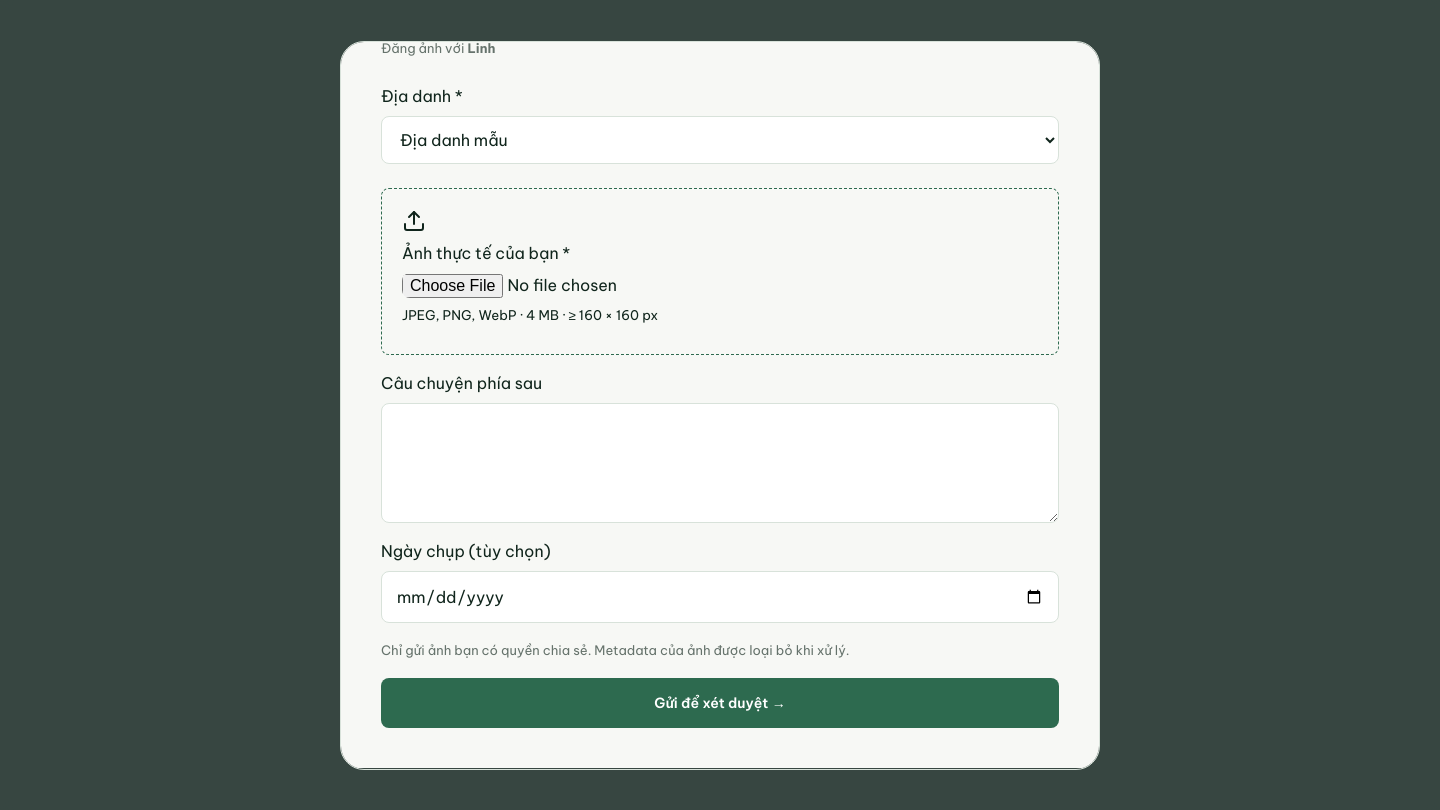
Test: public frontend workflows › validates an empty upload form
(page scrolled)
Click the button "Gửi để xét duyệt →".
click(720, 703)  # box [381, 678, 1059, 728]
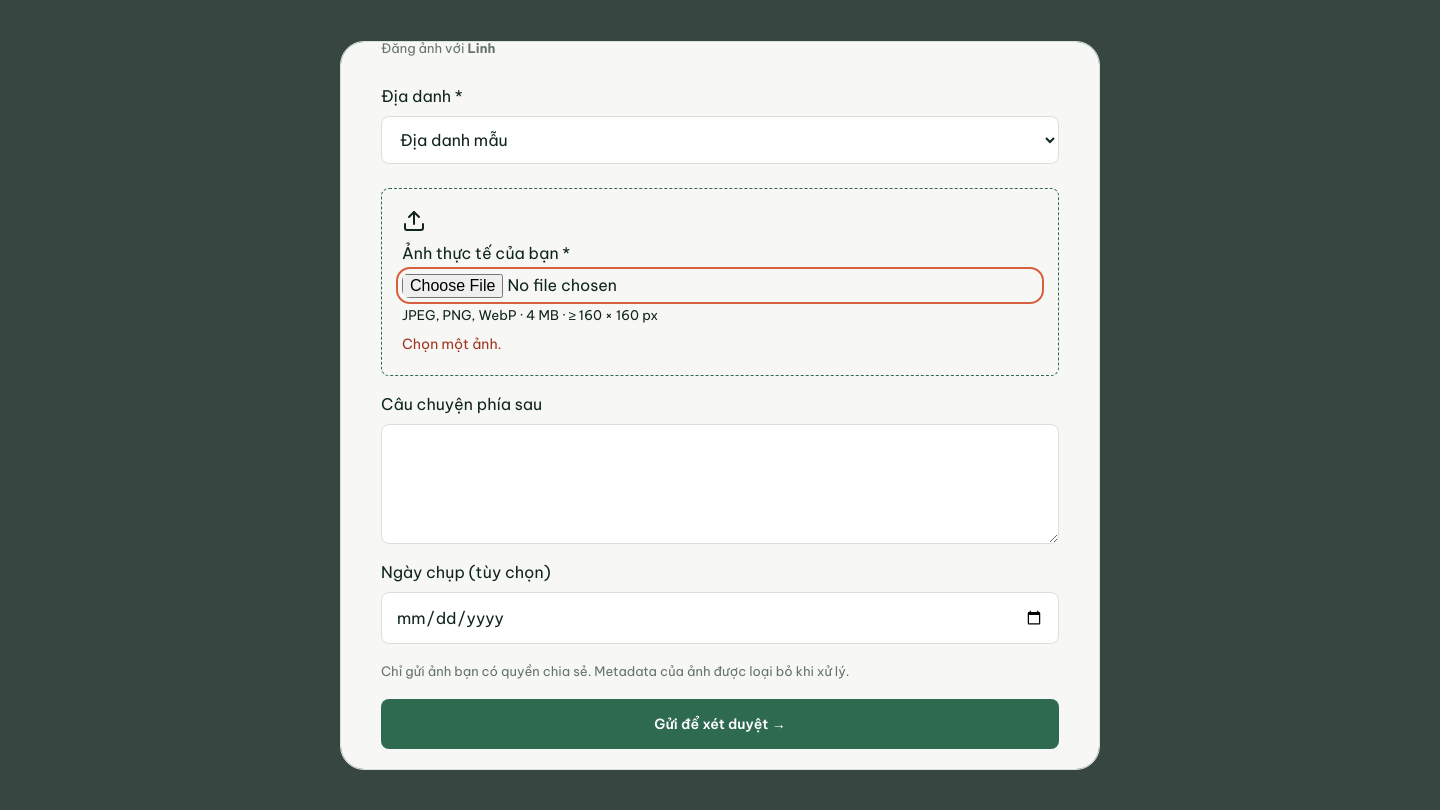
Now the text "Chọn một ảnh." is shown, box [402, 335, 502, 353]
